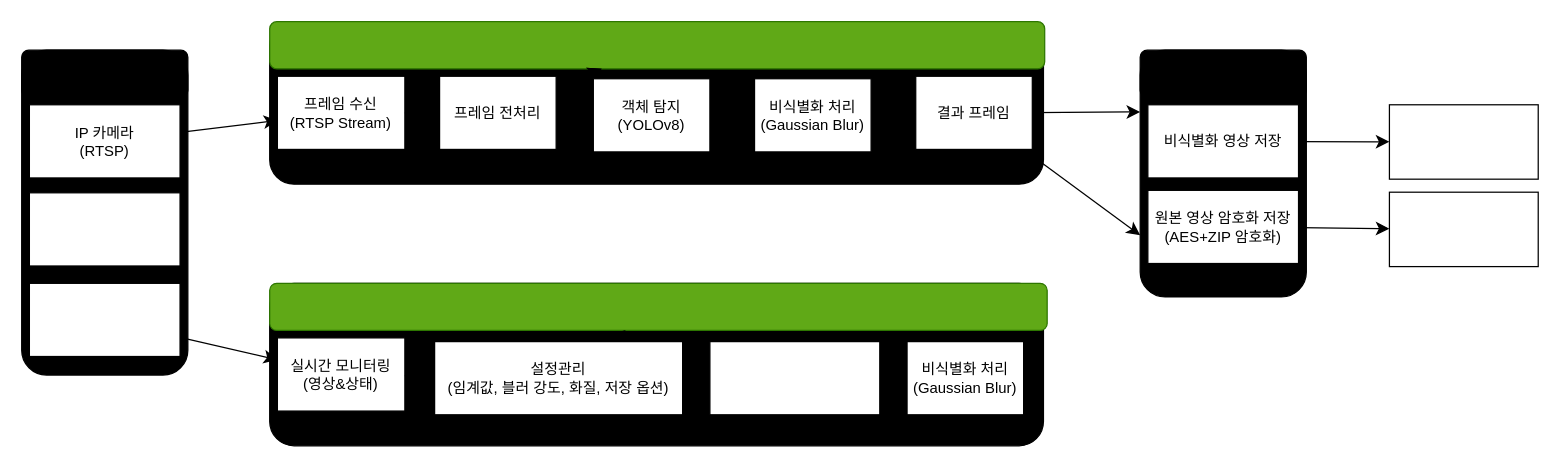
This 1560x467 diagram has some shape labels left out. Here are the shapes that lost their labels. From the top down, the centre of each, then its label:
At (656,44): "실시간 처리(Real-time Processing)".
At (1463,141): "저장 경로 /records/blur/ (로컬 저장)".
At (104,229): "네트워크".
At (1463,229): "저장 경로 /records/original_enc/ (ZIP 암호화 파일)".
At (104,319): "클라이언트 (Python Application)".
At (657,306): "제어 및 모니터링(Control&Monitoring)".
At (794,377): "상태 표시 (FPS, 탐지 수, 녹화 상태)".
